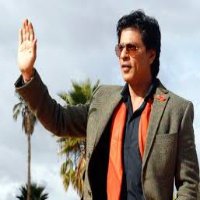ring: (21, 21, 27, 43)
